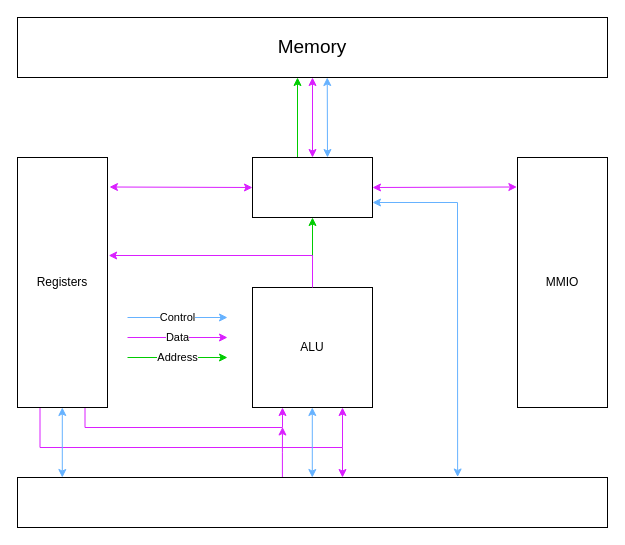
The diagram is 625 pixels wide and 545 high, and some of its shapes have lost their labels. The shapes that lost their labels are listed below. From the top down, each one's centre as x and y in pixels, then its label:
At (312,187): "Memory Controller".
At (312,502): "Control Unit".
